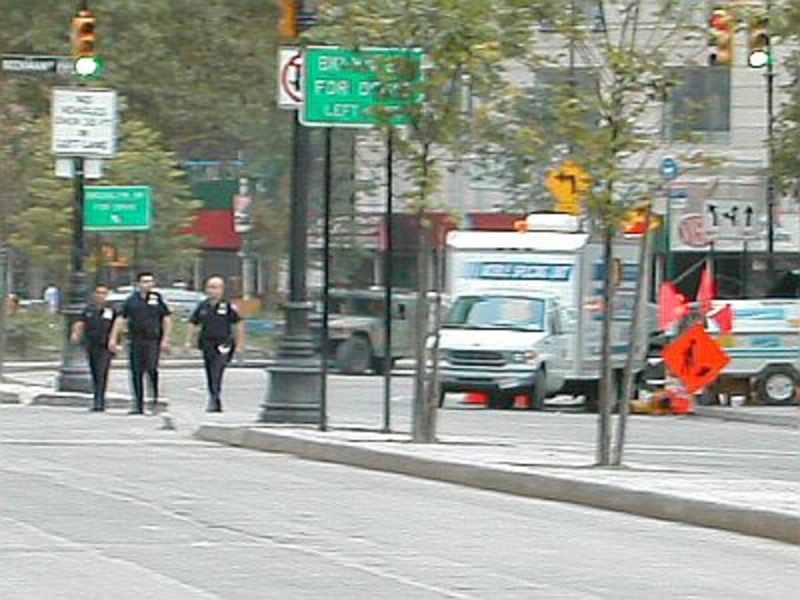green_light: (68, 48, 107, 84)
